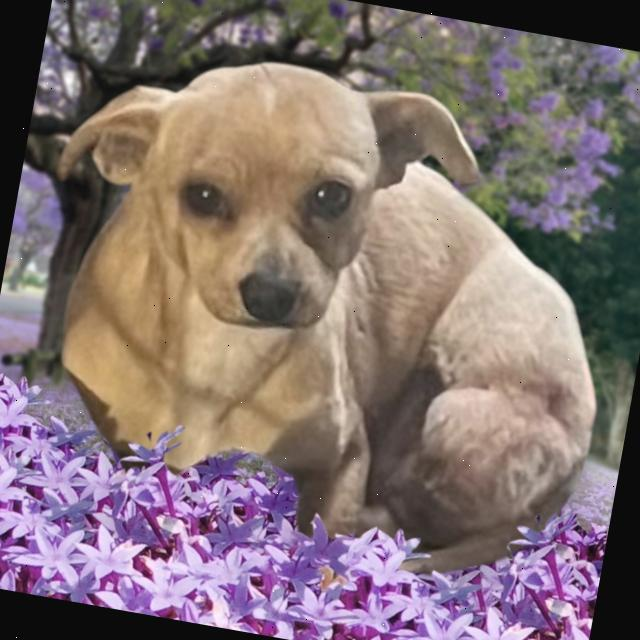chihuahua_dog: (32, 18, 498, 370)
